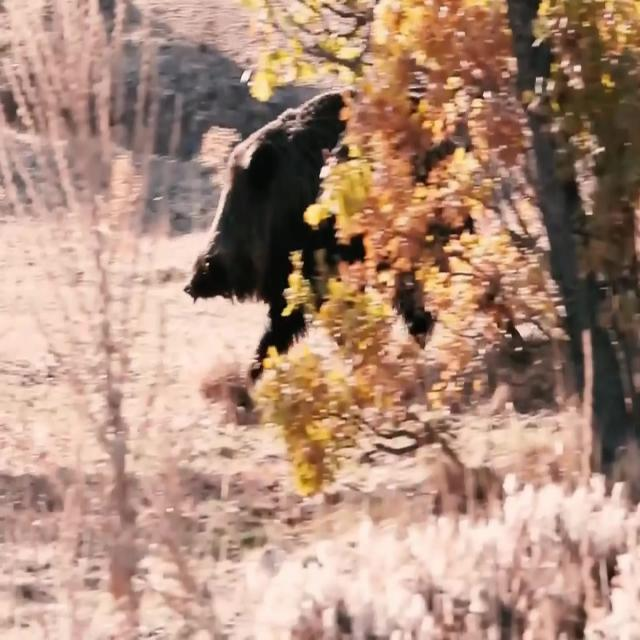pig: (177, 26, 476, 398)
